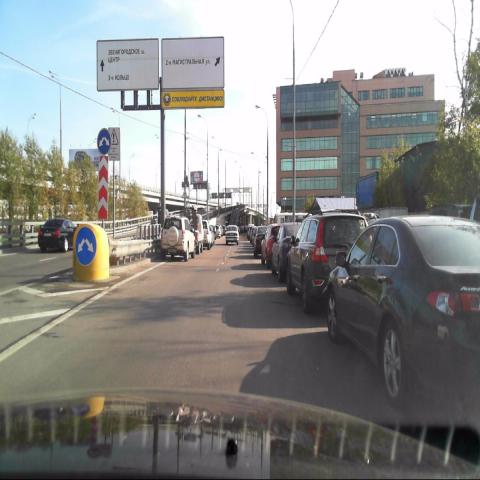4_2_3: (75, 225, 96, 265)
